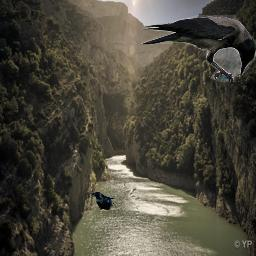Crow: (140, 15, 256, 82), (90, 192, 114, 211)
